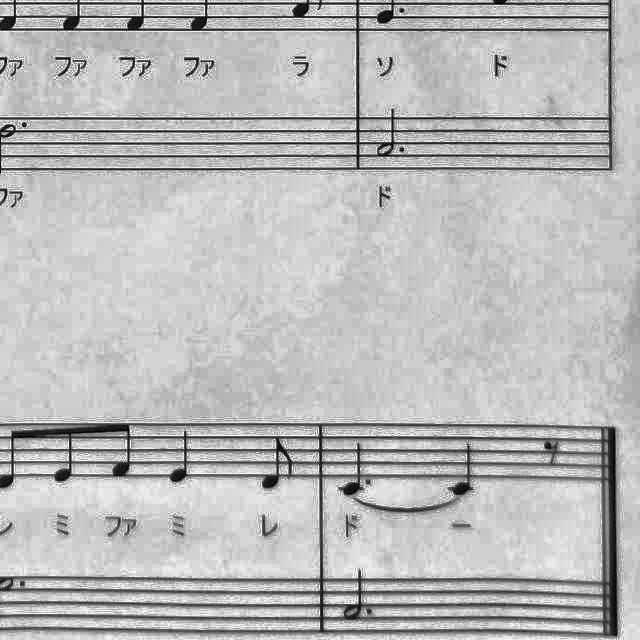Eighth-note: (256, 432, 300, 496), (48, 422, 86, 493), (106, 417, 142, 487)
Eighth-rest: (538, 432, 568, 472)
Half-dot: (338, 564, 380, 626), (370, 110, 410, 164)
Quarter-dot: (334, 440, 378, 500)
Quarter-note: (163, 426, 201, 489), (443, 439, 481, 497)
